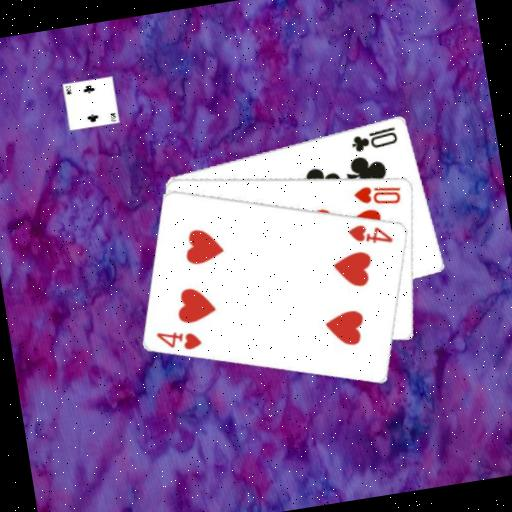10C: (346, 122, 400, 154)
10H: (349, 177, 404, 211)
4H: (153, 322, 205, 356), (344, 216, 395, 250)
